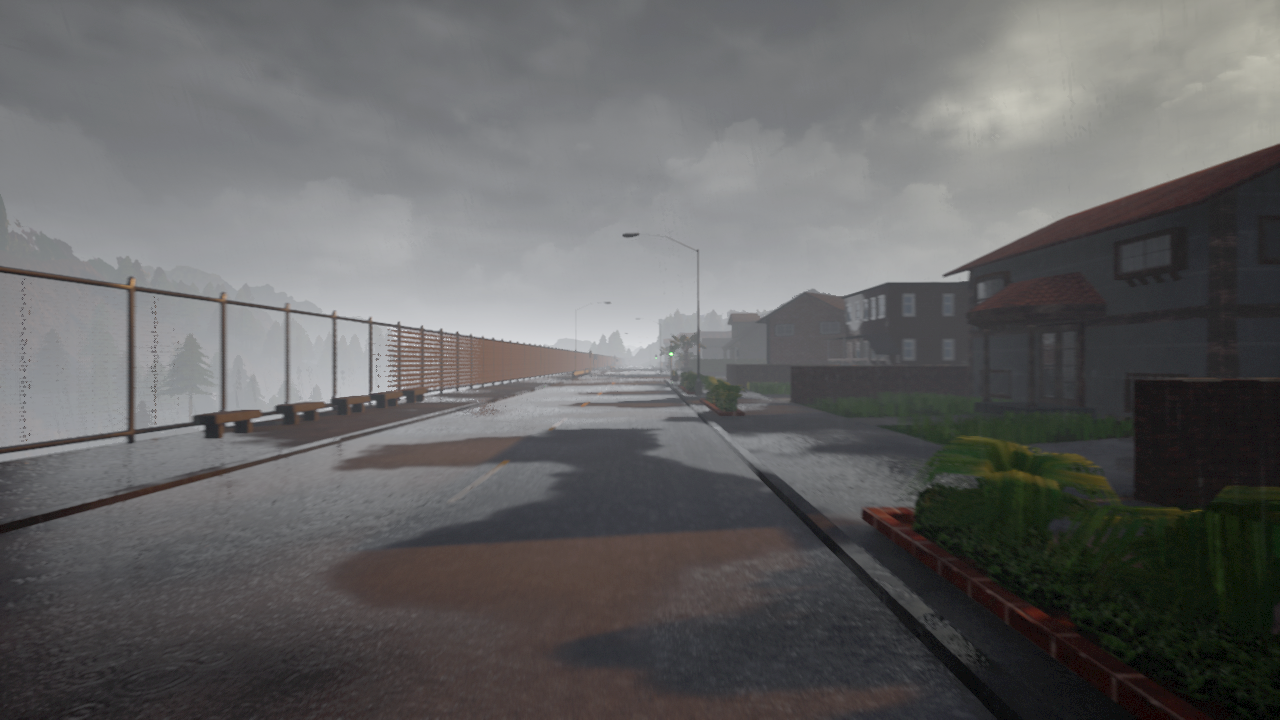green: (668, 345, 674, 356)
